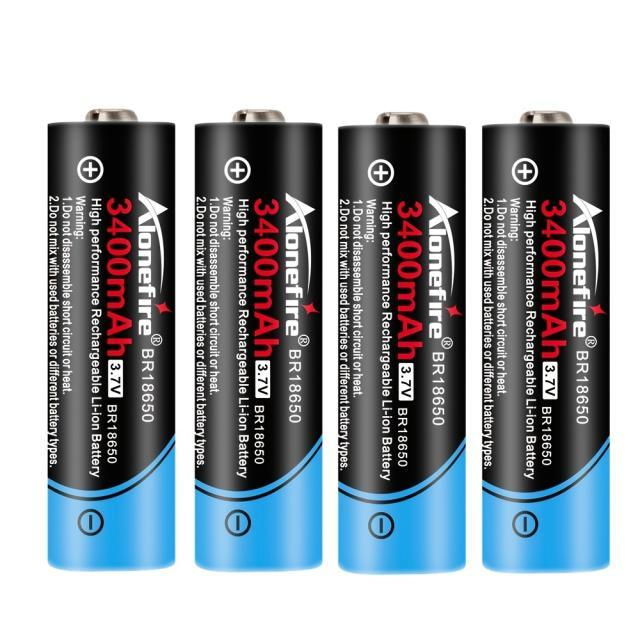AA: (480, 109, 610, 572), (193, 108, 323, 571), (336, 111, 466, 574), (46, 107, 175, 570)
